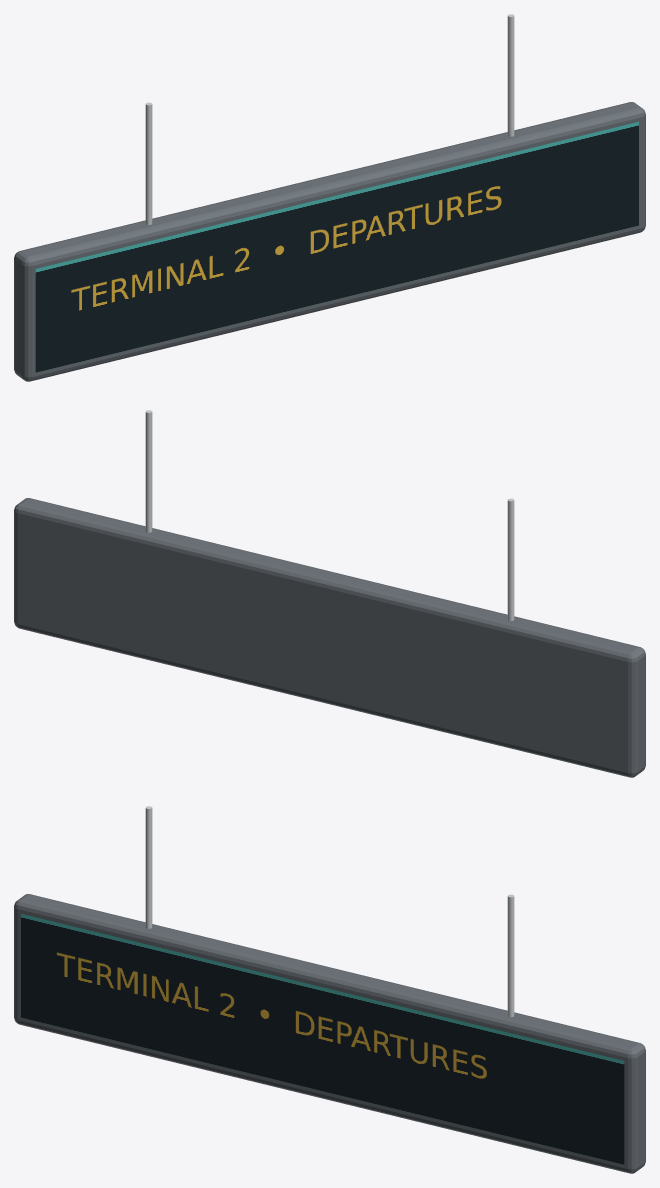
The model's file is terminal-sign.glb.
The picture shows the model from 3 angles, top to bottom: view 1: azimuth 30°, elevation 25°; view 2: azimuth 150°, elevation 25°; view 3: azimuth 330°, elevation 25°; orthographic projection.
Parts seen in each view (by area): view 1: EditableScreen, DisplayHousing, Suspension0.51, Suspension-0.51; view 2: DisplayHousing, Suspension0.51, Suspension-0.51; view 3: EditableScreen, DisplayHousing, Suspension-0.51, Suspension0.51.
Boxes of the visible parts, box(x1,y1,x2,y2) form: EditableScreen: box(35, 121, 638, 372); DisplayHousing: box(14, 102, 645, 381); Suspension0.51: box(507, 14, 514, 136); Suspension-0.51: box(145, 102, 152, 224); DisplayHousing: box(14, 498, 645, 777); Suspension0.51: box(145, 410, 152, 532); Suspension-0.51: box(507, 498, 514, 620); EditableScreen: box(21, 913, 624, 1164); DisplayHousing: box(14, 894, 645, 1173); Suspension-0.51: box(145, 806, 152, 928); Suspension0.51: box(507, 894, 514, 1016).
Size of the model in its own units: 1.75 by 0.6575 by 0.071.
Materials: 3 (1 with a texture image).
